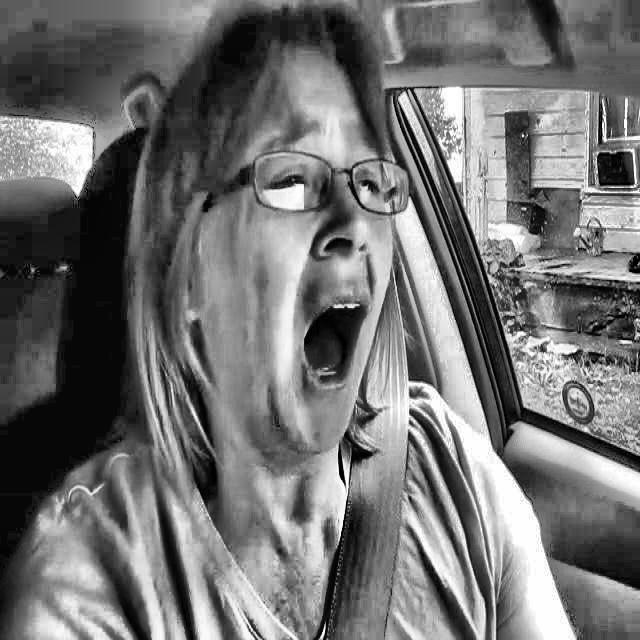open_mouth: (280, 283, 380, 409)
